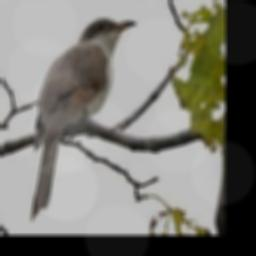Cuckoo: (31, 17, 136, 219)
